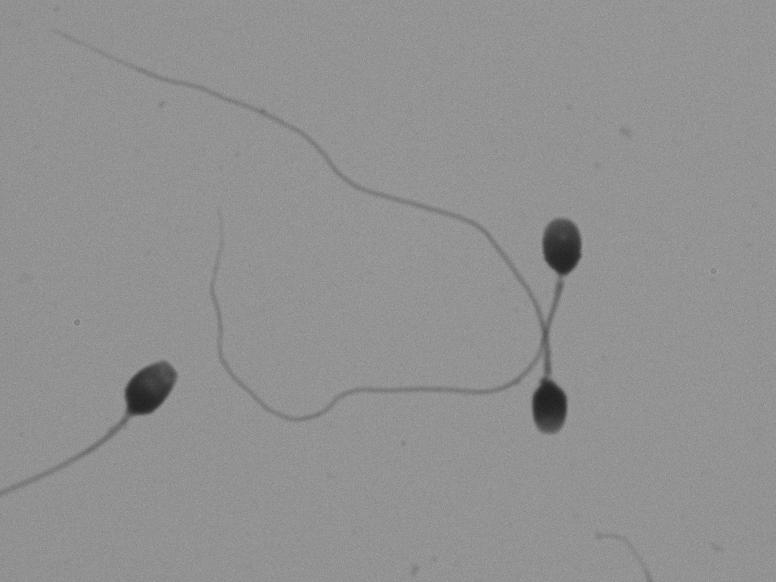Abnormal: (30, 329, 191, 522)
Normal: (193, 201, 591, 439)
